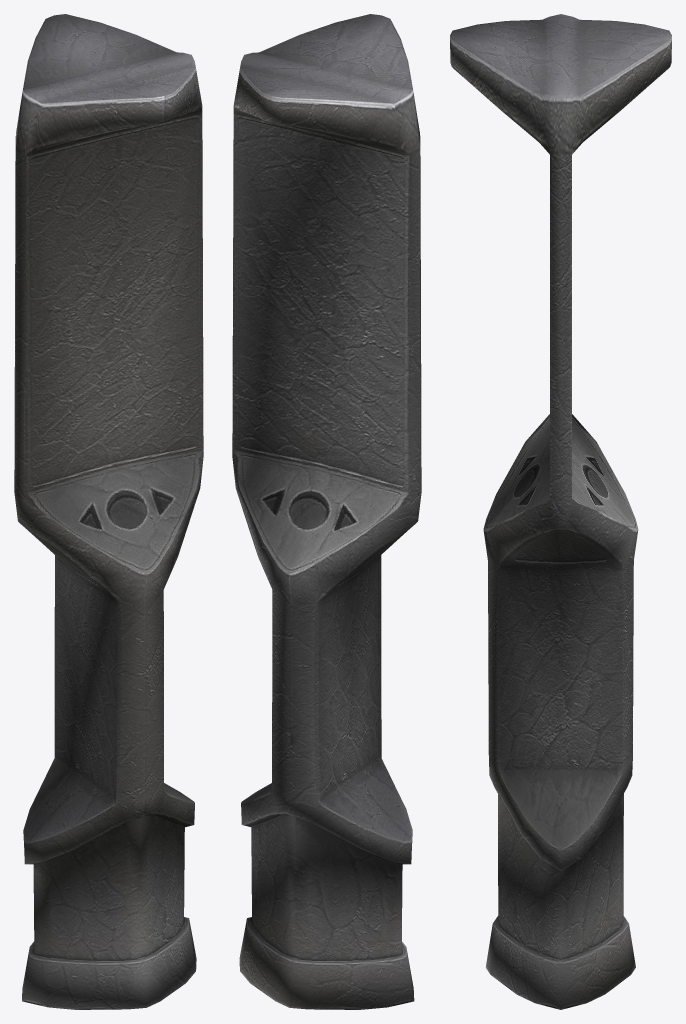
Rendered from portal.glb.
The picture shows the model from 3 angles, left to right: view 1: azimuth 30°, elevation 25°; view 2: azimuth 150°, elevation 25°; view 3: azimuth 270°, elevation 25°; orthographic projection.
Visible parts, largest first — view 1: portal; view 2: portal; view 3: portal.
Part boxes in pixels (x1,y1,x2,y2): portal: [14, 14, 203, 1009]; portal: [232, 14, 421, 1009]; portal: [450, 14, 671, 1009].
Size of what is drawn, in the model's own units: 0.5009 by 2.37 by 0.5115.
1 material, 1 textured.
